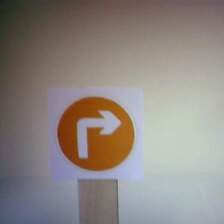right: (48, 86, 137, 177)
